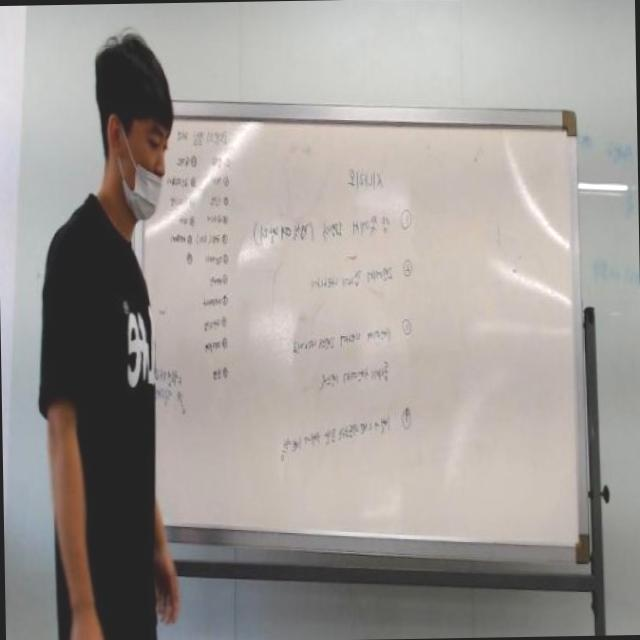Instructor: (36, 31, 192, 582)
White-board: (113, 102, 580, 562)
